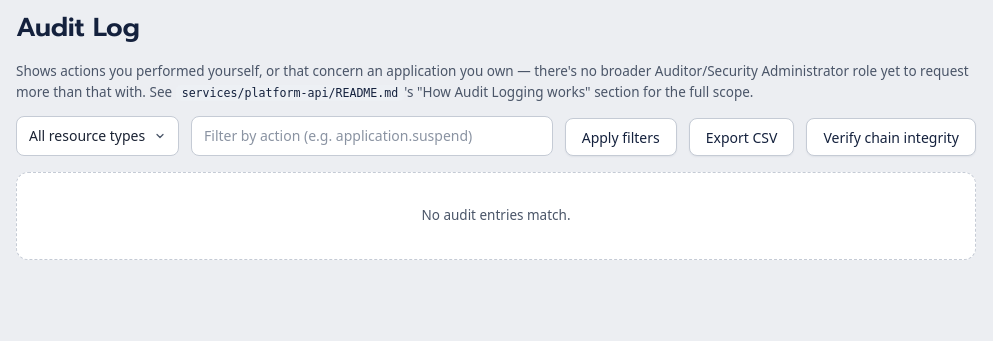
Test case: AuditLog › reports chain integrity from GET /audit-log/integrity
The width and height of the screenshot is (993, 341).
Expected: the text "No audit entries match." is shown, [16,172,976,260]
Click the button "Verify chain integrity" at [891, 137], box [806,118,976,156]
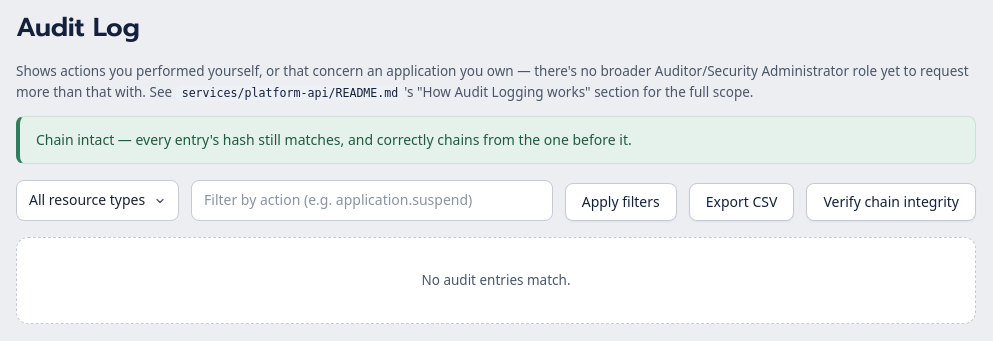
Expected: the text "Chain intact" is shown, [36,130,632,149]
